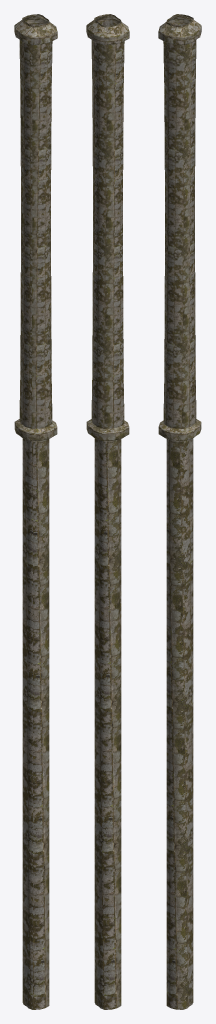
File: bridge_pillar_extension.FBX
3 views of the same model, side by side, from view 1: azimuth 30°, elevation 25°; view 2: azimuth 210°, elevation 25°; view 3: azimuth 330°, elevation 25° (orthographic).
Visible parts, largest first — view 1: pilier_extension; view 2: pilier_extension; view 3: pilier_extension.
Boxes of the visible parts, box(x1,y1,x2,y2) form: pilier_extension: box(14, 14, 57, 1009); pilier_extension: box(86, 14, 129, 1009); pilier_extension: box(158, 14, 201, 1009).
Bounding box in the file's own units: 12.19 × 338 × 13.15.
Materials: 1 (1 with a texture image).
